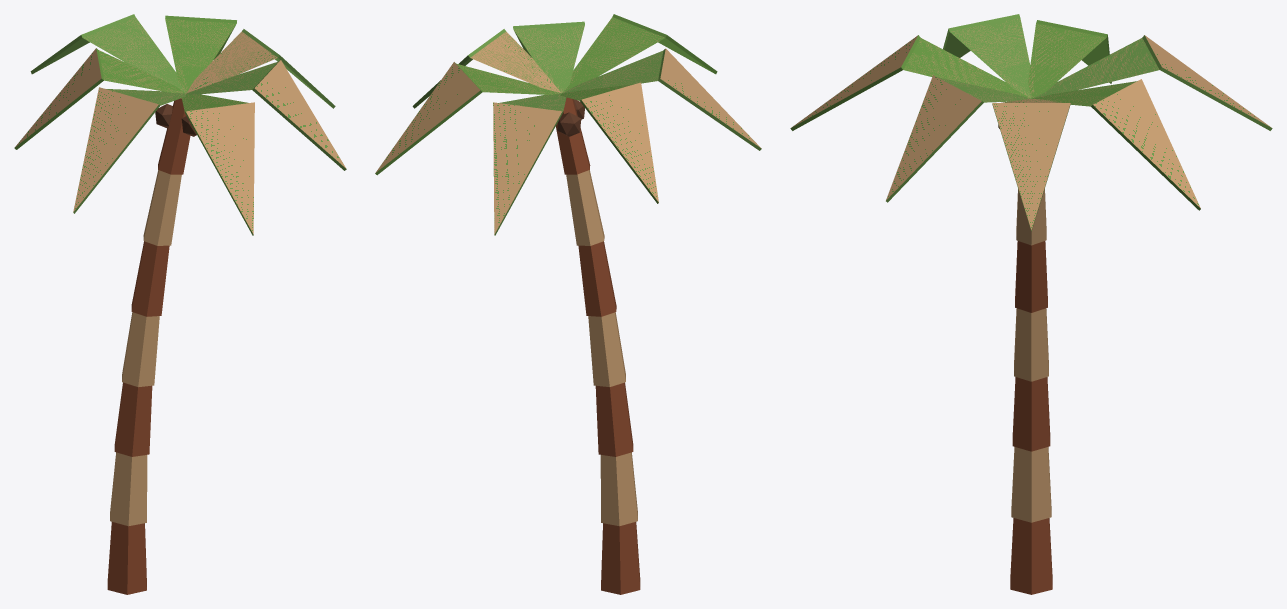
File: Palm_Tree_A.glb
The picture shows the model from 3 angles, left to right: view 1: azimuth 30°, elevation 25°; view 2: azimuth 150°, elevation 25°; view 3: azimuth 270°, elevation 25°; orthographic projection. The views are drawn at different scales.
Visible parts, largest first — view 1: Palm_Tree_A; view 2: Palm_Tree_A; view 3: Palm_Tree_A.
Part boxes in pixels (x1,y1,x2,y2): Palm_Tree_A: (14,14,346,594); Palm_Tree_A: (375,14,761,594); Palm_Tree_A: (790,14,1272,594).
Size of the model in its own units: 3.12 by 4.98 by 3.94.
1 material, 1 textured.
